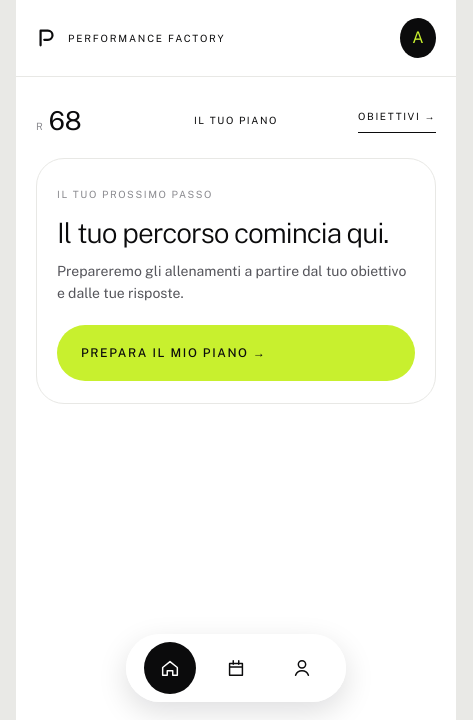
Test: PF4 athlete experience › requests a plan once and displays preparation after the saved command
The image size is (473, 720).
Click the button "Prepara il mio piano →" at (236, 353), box [57,325,415,381]
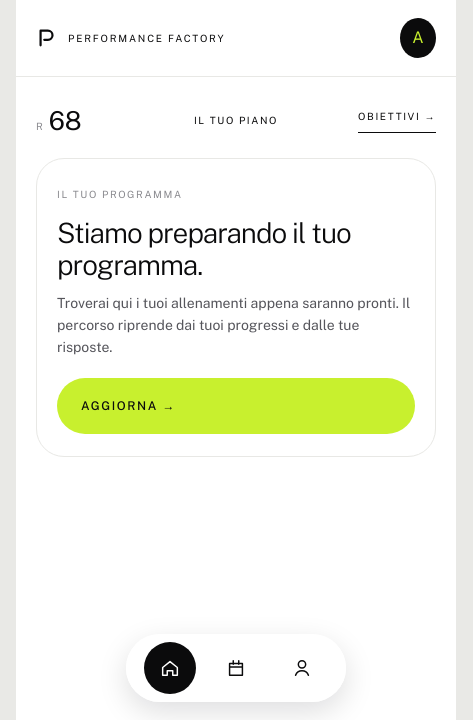
Now the heading "Stiamo preparando il tuo programma." is shown, box [57,216,351,281]
